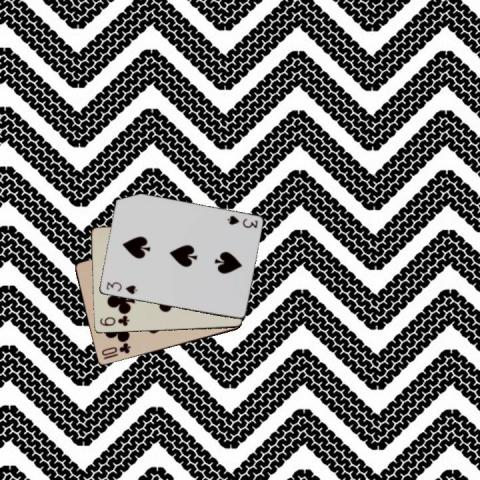10c: (99, 340, 132, 361)
3s: (103, 279, 139, 295), (224, 213, 259, 229)
6c: (96, 314, 130, 328)
